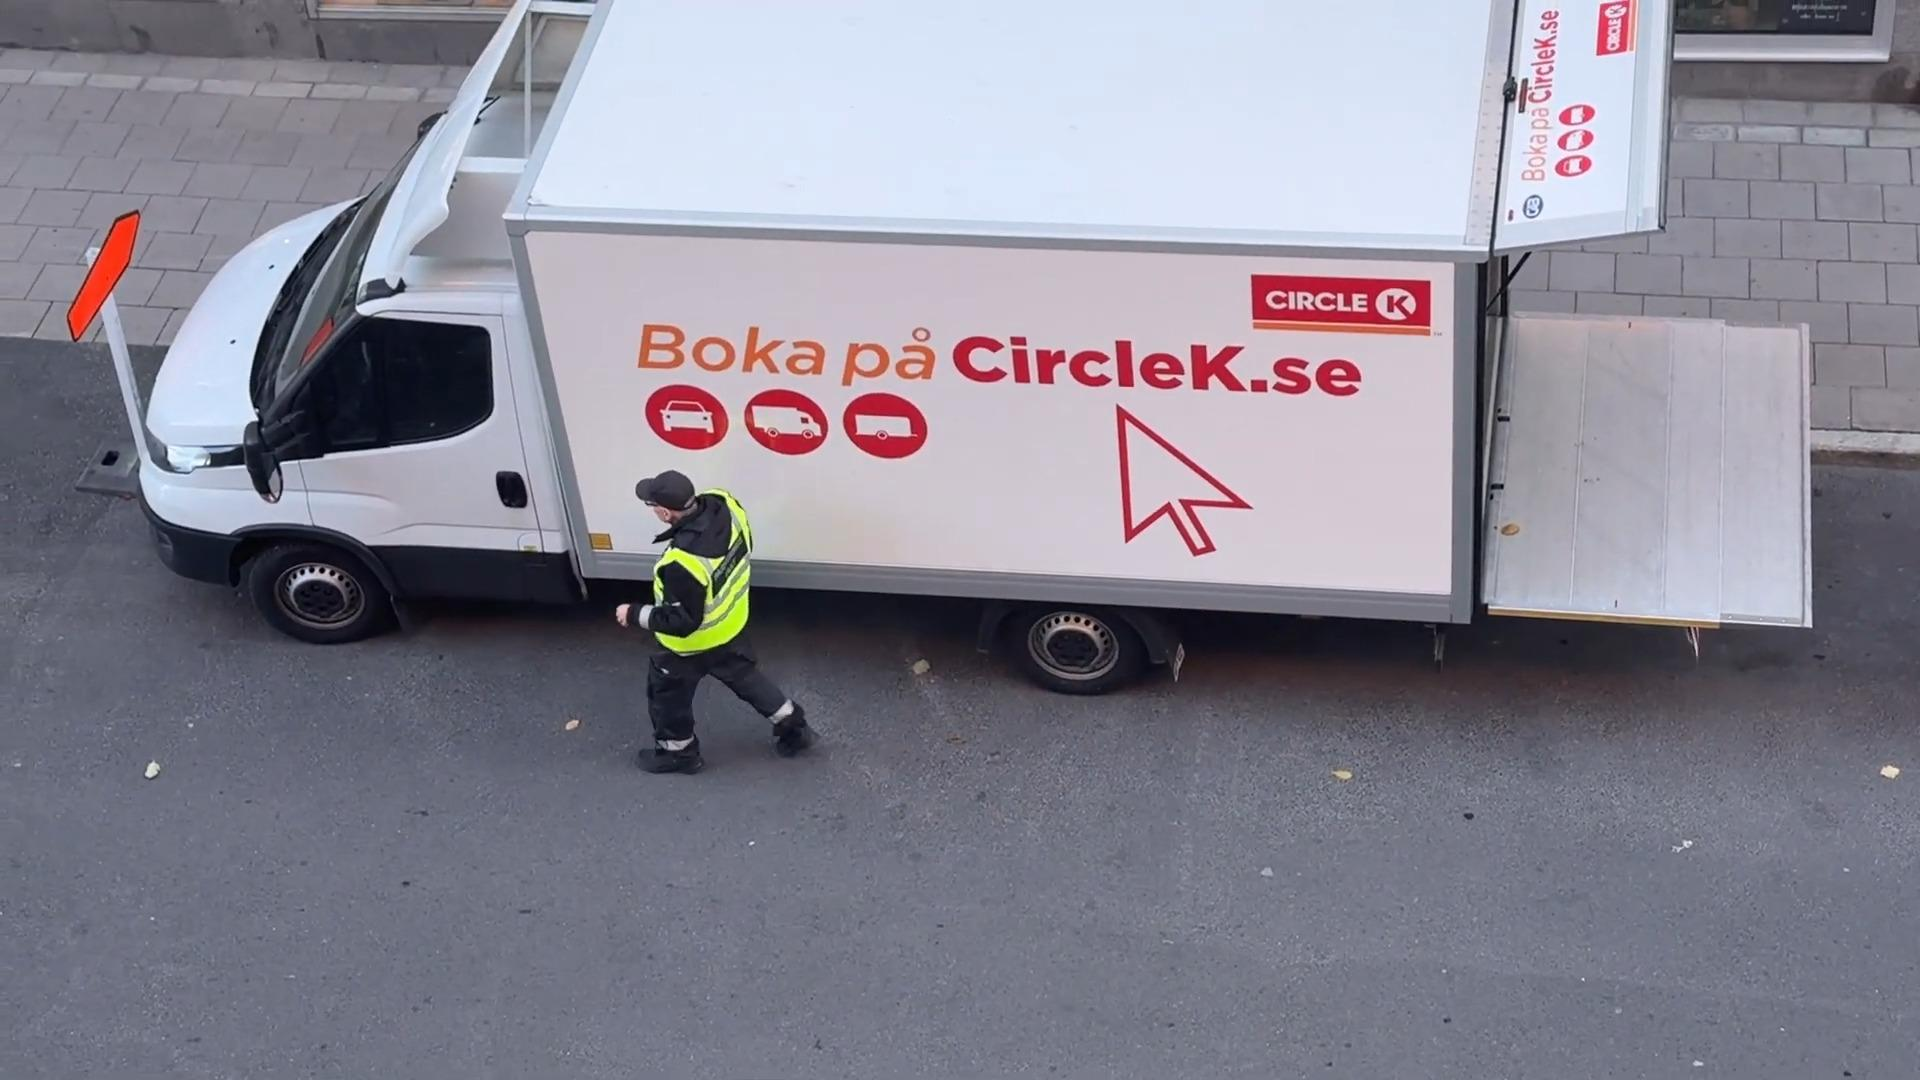parking-attendant: (615, 472, 814, 771)
